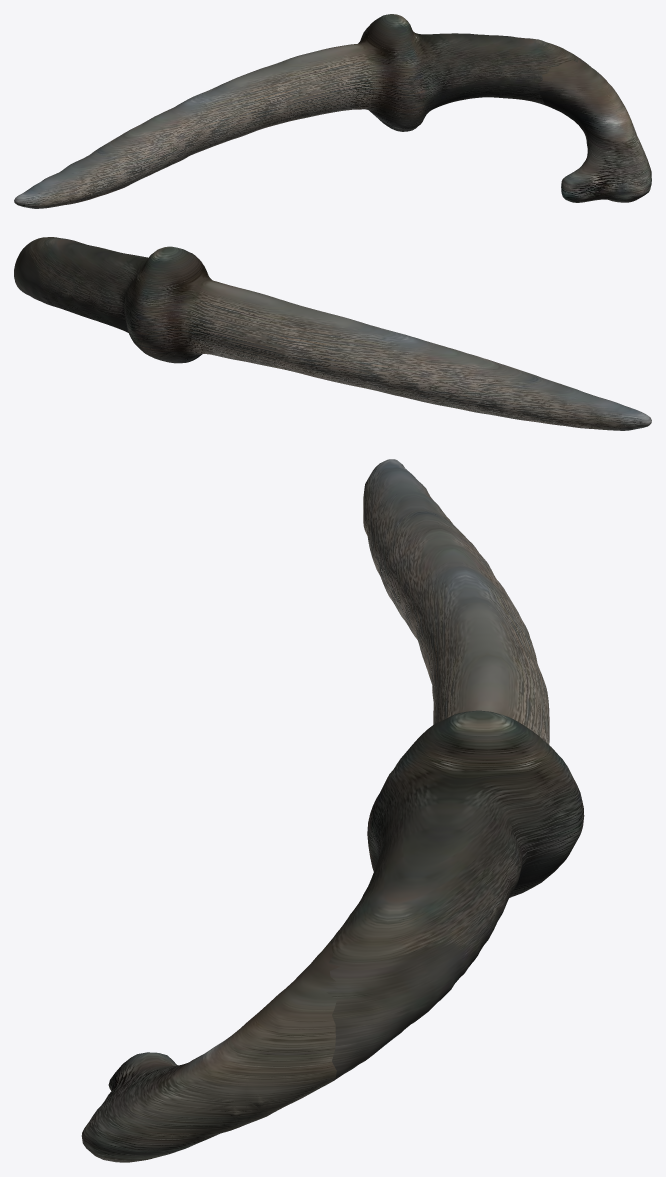
The model's file is kfl-2218.glb.
3 views of the same model, one above another, from view 1: azimuth 30°, elevation 25°; view 2: azimuth 150°, elevation 25°; view 3: azimuth 270°, elevation 25° (orthographic). The views are drawn at different scales.
Visible parts, largest first — view 1: geometry_0; view 2: geometry_0; view 3: geometry_0.
Boxes of the visible parts, left/top/right/bottom form: geometry_0: left=14, top=14, right=651, bottom=208; geometry_0: left=14, top=237, right=651, bottom=430; geometry_0: left=81, top=459, right=584, bottom=1162.
Size of the model in its own units: 0.9885 by 0.247 by 0.372.
1 material, 1 textured.
